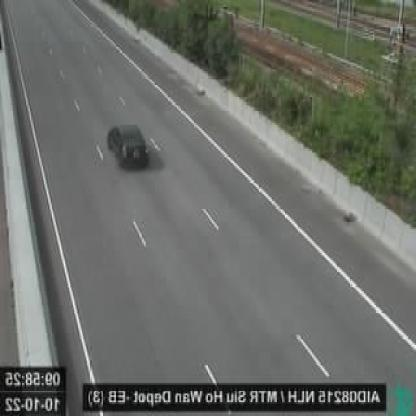Car: (107, 121, 150, 170)
